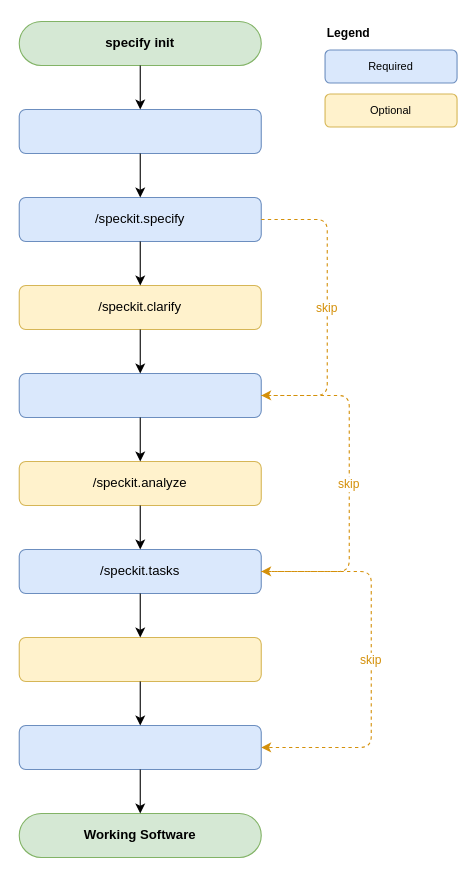
Some shapes in this 476 by 877 pixel diagram are drawn without their labels. Here are the shapes that lost their labels. From the top down, the centre of each, then its label:
At point 139,130: "/speckit.constitution".
At point 139,394: "/speckit.plan".
At point 139,658: "/speckit.checklist".
At point 139,746: "/speckit.implement".
